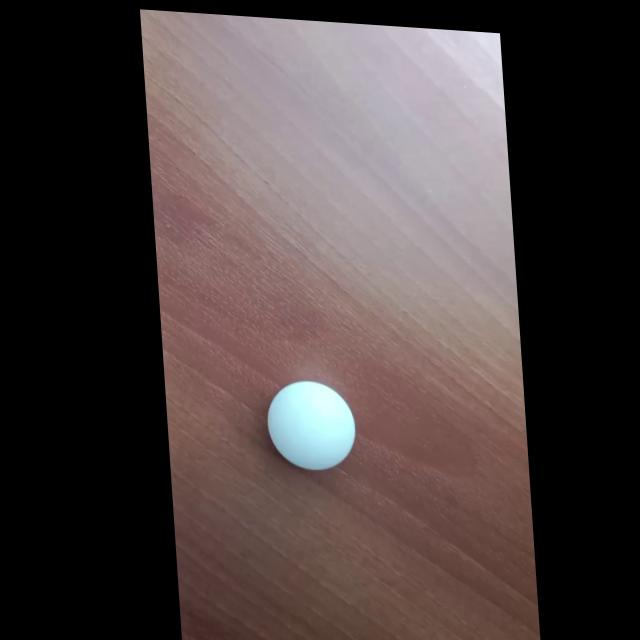white ball: (264, 378, 359, 474)
